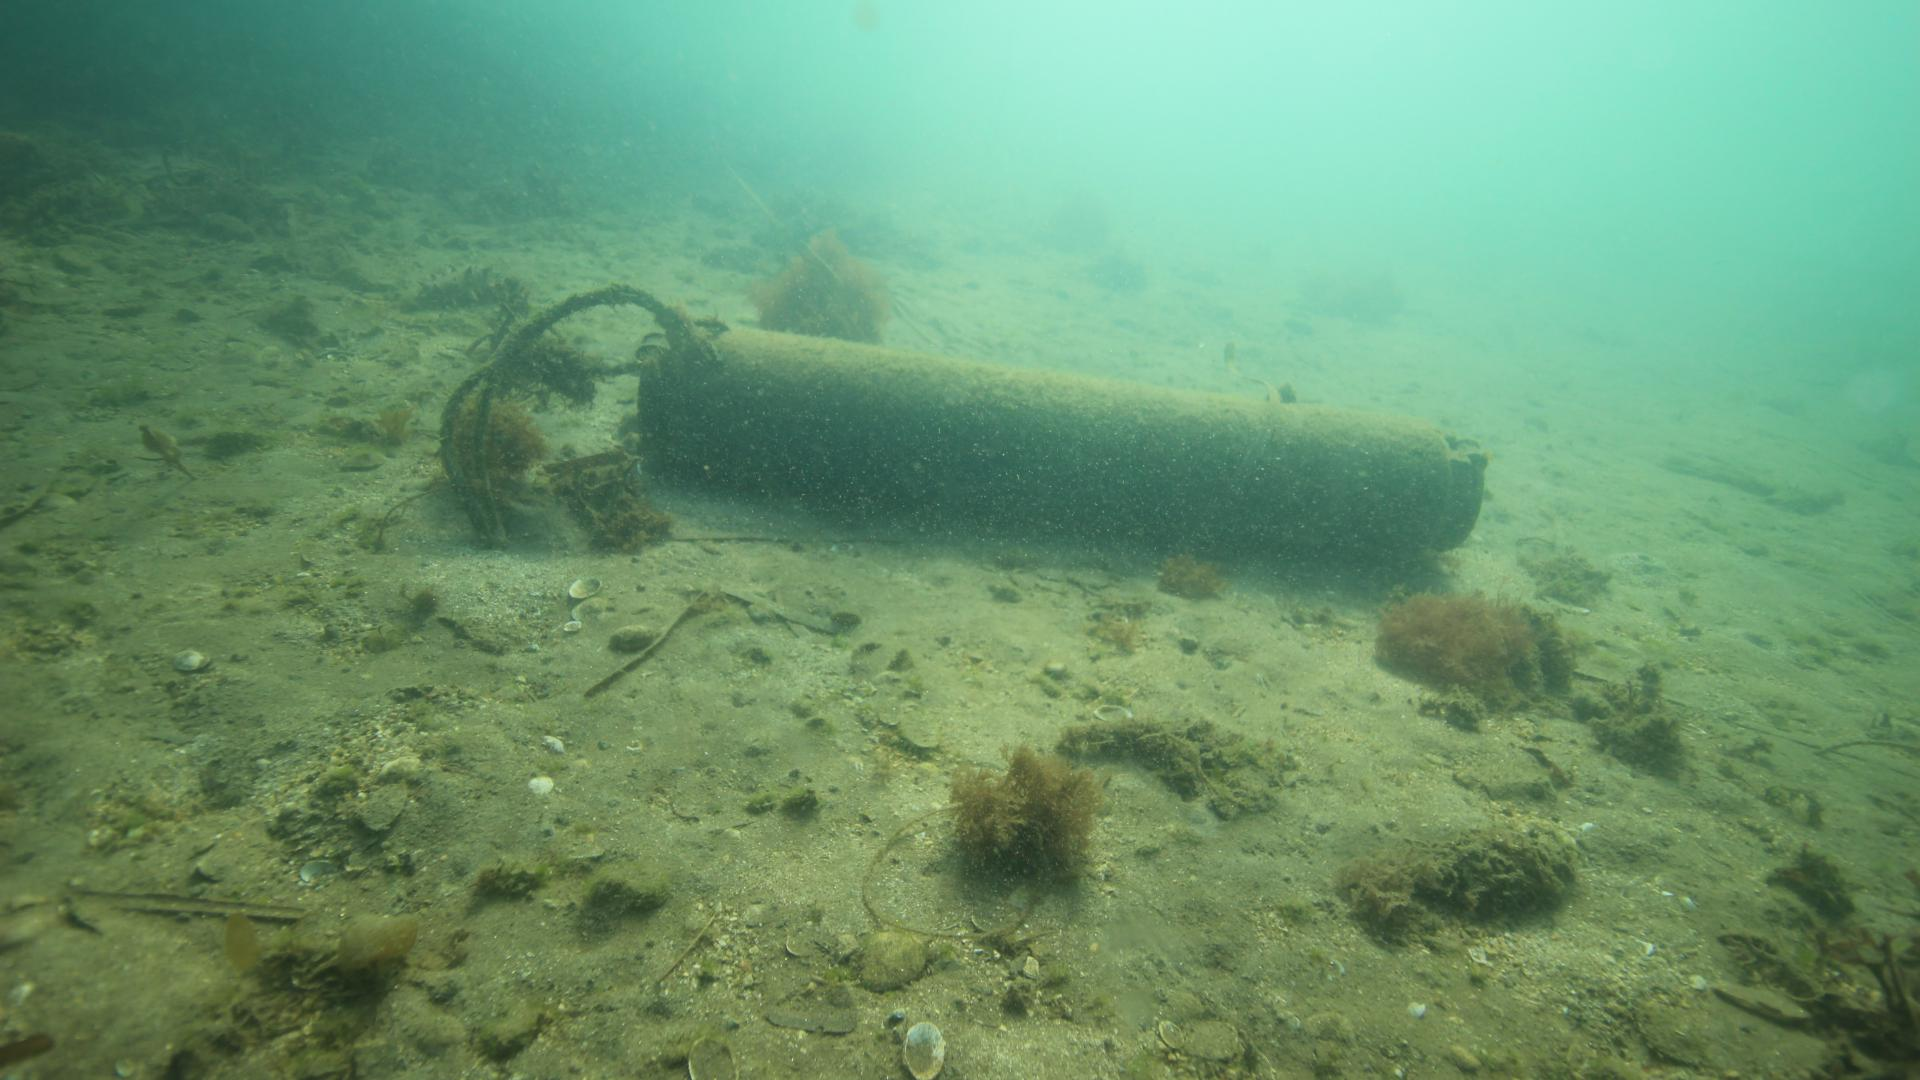bundle of ropes: (439, 280, 694, 547)
eel fish trap: (630, 322, 1493, 556)
